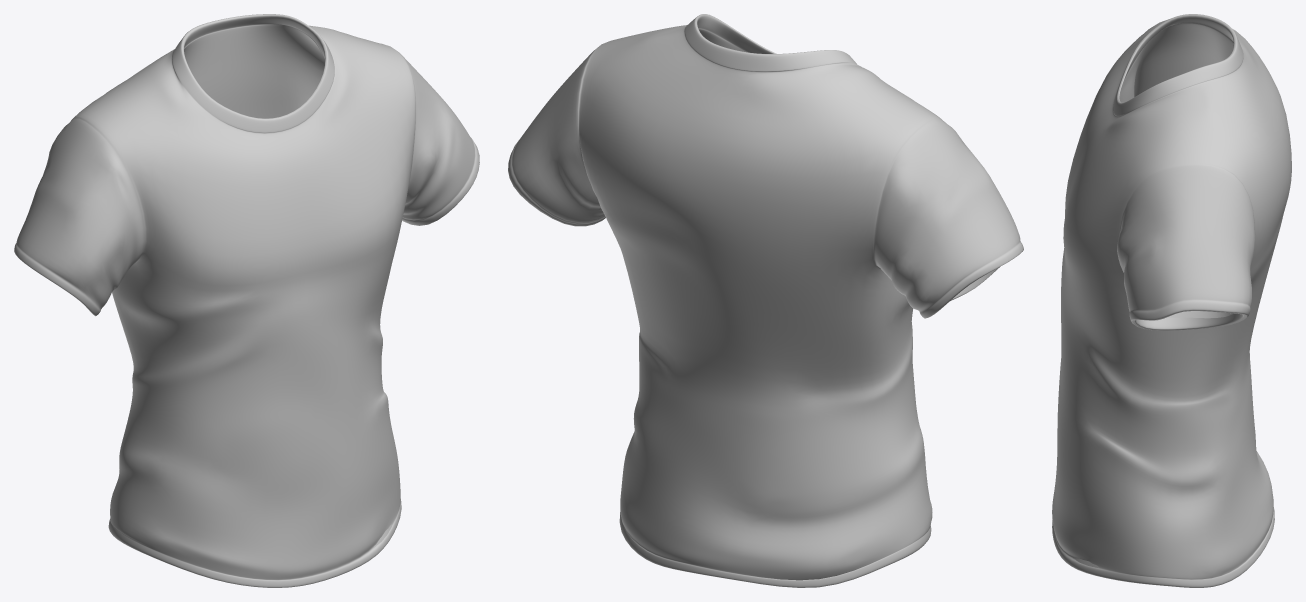
Rendered from tshirt.glb.
The picture shows the model from 3 angles, left to right: view 1: azimuth 30°, elevation 25°; view 2: azimuth 150°, elevation 25°; view 3: azimuth 270°, elevation 25°; orthographic projection. The views are drawn at different scales.
Visible parts, largest first — view 1: male_tshirt.001; view 2: male_tshirt.001; view 3: male_tshirt.001.
Part boxes in pixels (<box>): male_tshirt.001: <box>14,14,479,587</box>; male_tshirt.001: <box>508,14,1023,587</box>; male_tshirt.001: <box>1052,14,1291,587</box>.
Size of the model in its own units: 4.75 by 4.96 by 2.18.
1 material, 1 textured.
